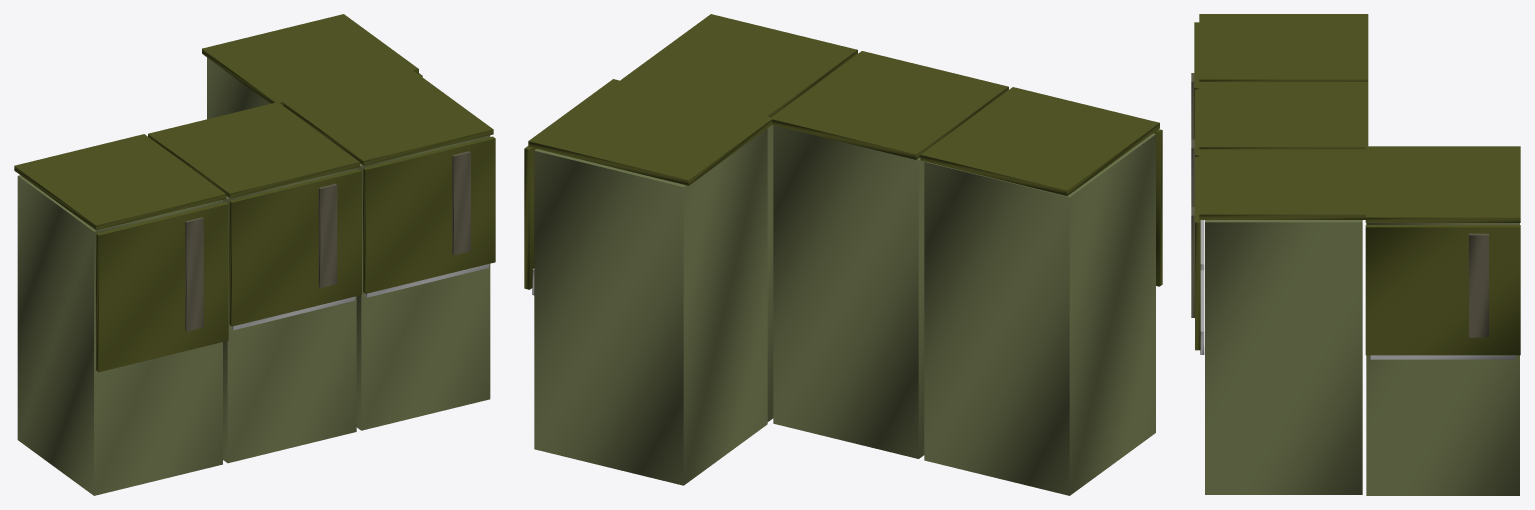
File: SM_HescoRemateEspejo_v4_Red_e0_Sano_LOD1.fbx
3 renders of one model, left to right at view 1: azimuth 30°, elevation 25°; view 2: azimuth 150°, elevation 25°; view 3: azimuth 270°, elevation 25°, orthographic. The views are drawn at different scales.
Visible parts, largest first — view 1: SM_hesco_piezas_v36_LOD1; view 2: SM_hesco_piezas_v36_LOD1; view 3: SM_hesco_piezas_v36_LOD1.
Boxes of the visible parts, x1=… form: SM_hesco_piezas_v36_LOD1: x1=14, y1=14, x2=495, y2=495; SM_hesco_piezas_v36_LOD1: x1=524, y1=14, x2=1162, y2=495; SM_hesco_piezas_v36_LOD1: x1=1191, y1=14, x2=1520, y2=495.
Bounding box in the file's own units: 3.41 × 2.16 × 2.3.
